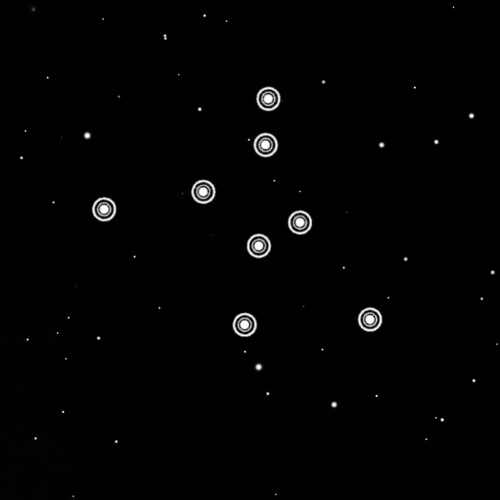hercules: (86, 80, 386, 346)
